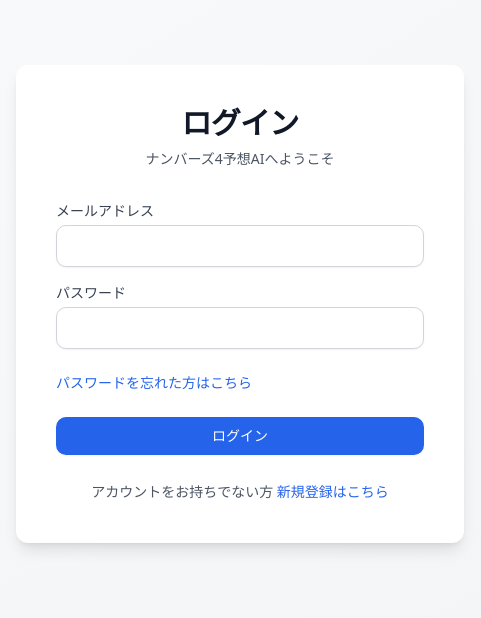
Test: LoginPage › ログイン失敗時にエラーメッセージが表示される
Type "test@example.com" into the field labelled "メールアドレス" at [240, 246], box [56,225,424,267]
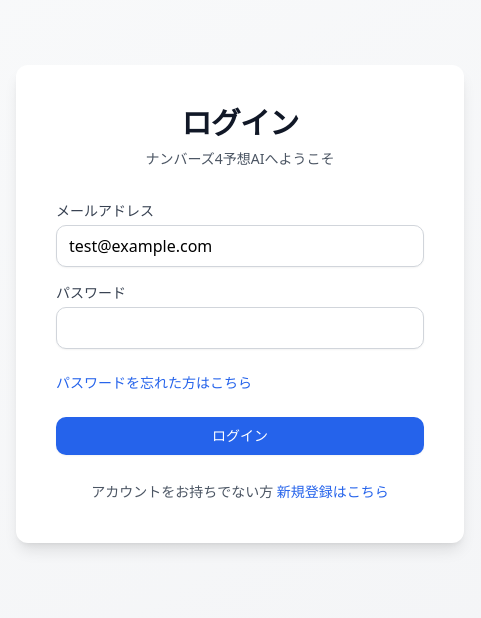
Type "wrongpassword" into the password field labelled "パスワード" at [240, 328], box [56,307,424,349]
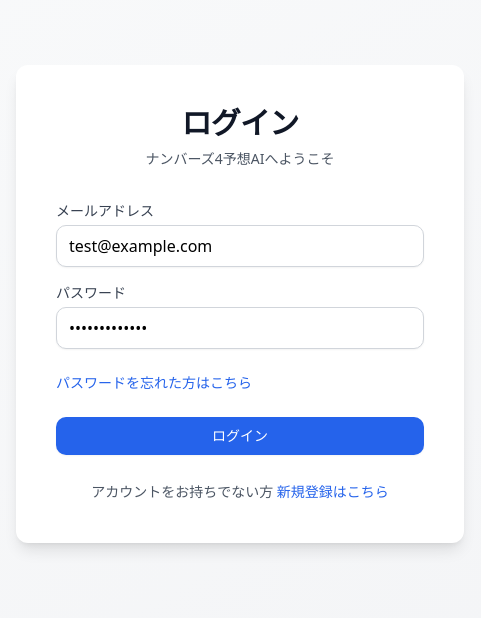
Click the button "ログイン" at [240, 436], box [56,417,424,455]
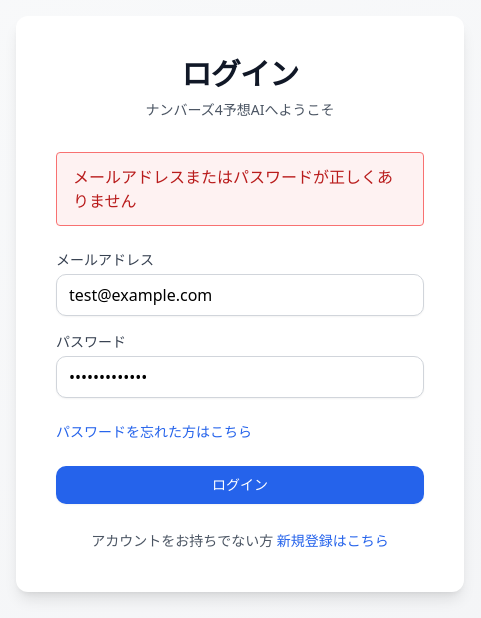
Result: the text "メールアドレスまたはパスワードが正しくありません" is shown at [56,152,424,226]
